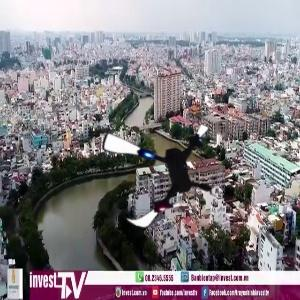drone: (94, 103, 226, 235)
